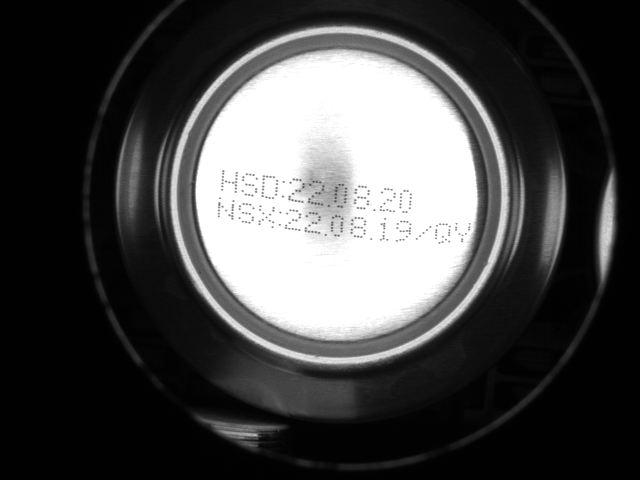/: (415, 221, 436, 243)
0: (399, 189, 421, 213), (333, 180, 349, 211), (329, 216, 349, 239)
1: (374, 218, 392, 243)
2: (374, 185, 398, 215), (279, 208, 304, 232), (308, 179, 326, 207), (302, 211, 323, 234), (286, 179, 306, 203)
8: (353, 218, 375, 242), (354, 183, 371, 211)
9: (396, 218, 412, 245)
D: (261, 174, 283, 200)
H: (218, 170, 242, 195)
N: (217, 199, 237, 221)
Q: (437, 222, 454, 245)
S: (243, 173, 259, 197), (238, 203, 255, 225)
X: (258, 204, 276, 227)
Y: (456, 221, 474, 246)
